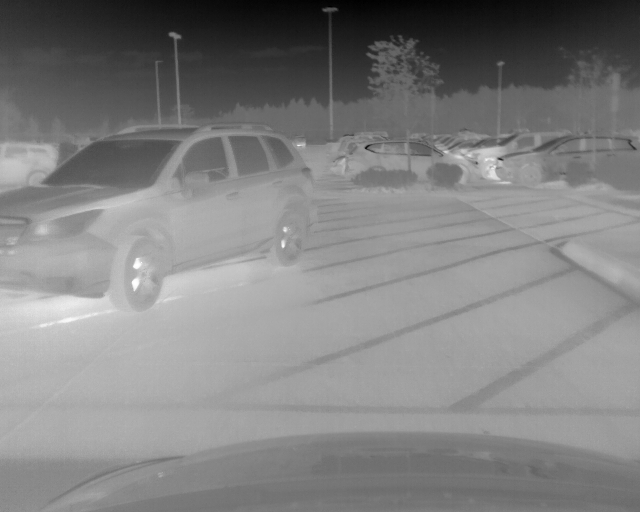car: (1, 123, 320, 312), (495, 133, 640, 189), (344, 138, 481, 186), (470, 129, 575, 181), (1, 140, 61, 186)
people: (58, 133, 79, 168)
